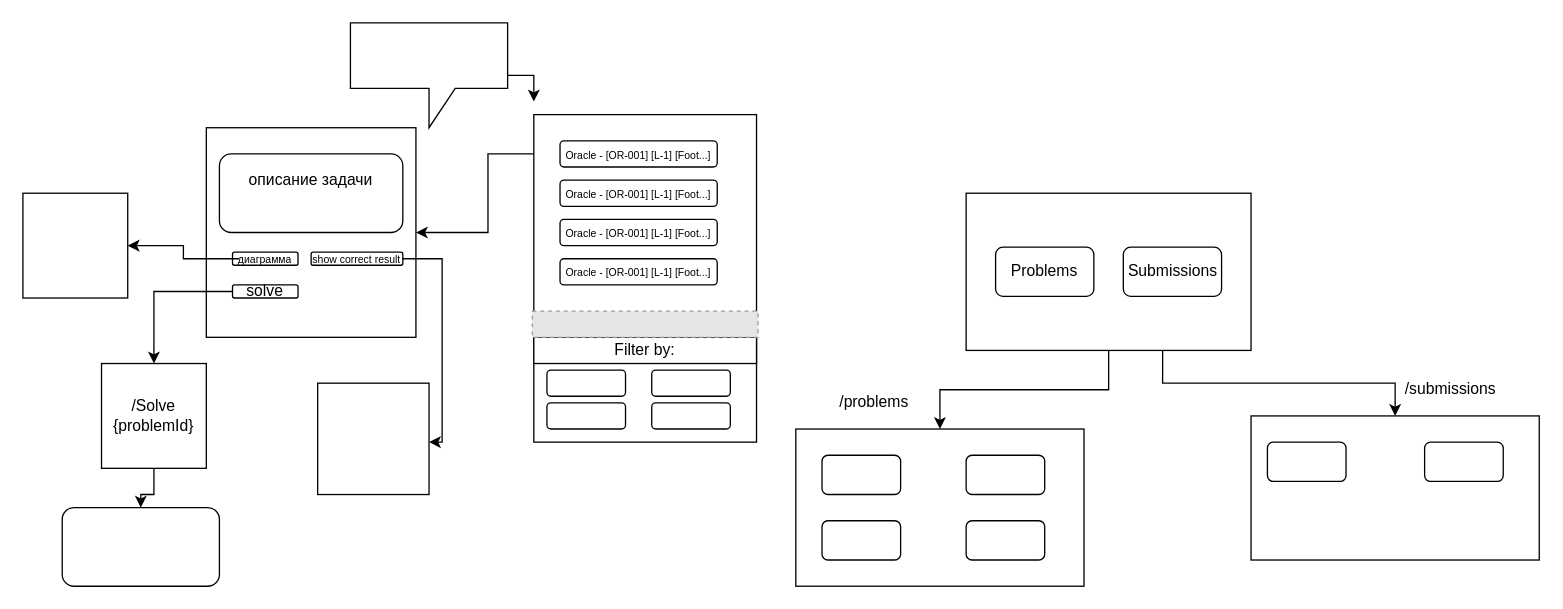
Image size: 1563x609. Some labels were removed from this diagram. Grey dashed boxes stand in for pictures. The centre of each missing label's shape, as x and y in pixels:
"(input)решение пользователя" belongs at [140,546].
"grid with data" belongs at [372,438].
"pic of digram" belongs at [75,245].
"форма заменяет список задач при нажатии на задачу" belongs at [428,75].
